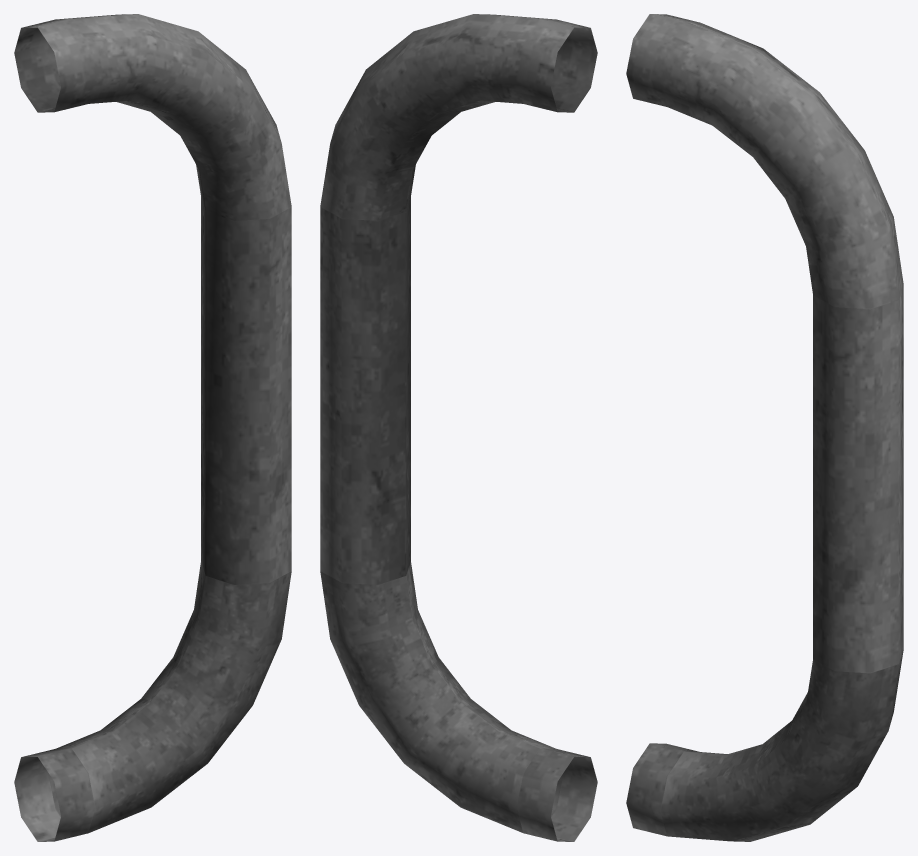
File: catwalk_railing_end_cap.dae
3 views of the same model, side by side, from view 1: azimuth 30°, elevation 25°; view 2: azimuth 150°, elevation 25°; view 3: azimuth 330°, elevation 25° (orthographic).
Parts seen in each view (by area): view 1: railing_end_cap; view 2: railing_end_cap; view 3: railing_end_cap.
Part boxes in pixels (bbox=[...]): railing_end_cap: bbox=[14, 14, 291, 841]; railing_end_cap: bbox=[320, 14, 597, 841]; railing_end_cap: bbox=[626, 14, 903, 841].
Size of the model in its own units: 0.2275 by 0.7099 by 0.0742.
